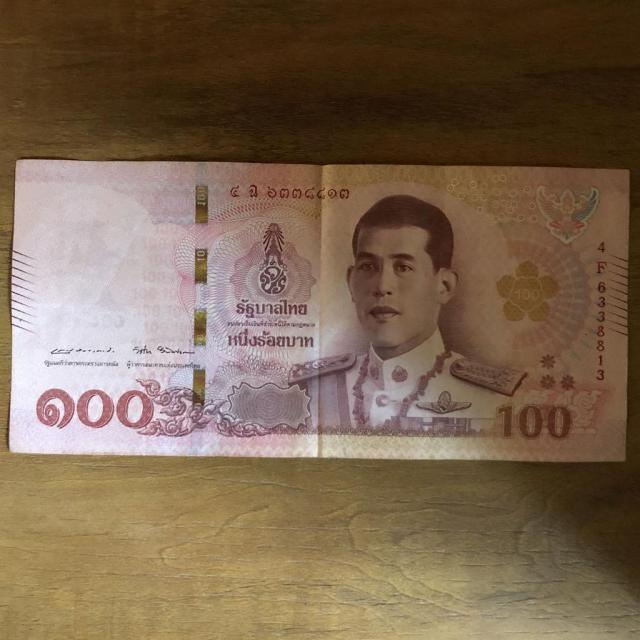THAI100: (9, 160, 629, 462)
